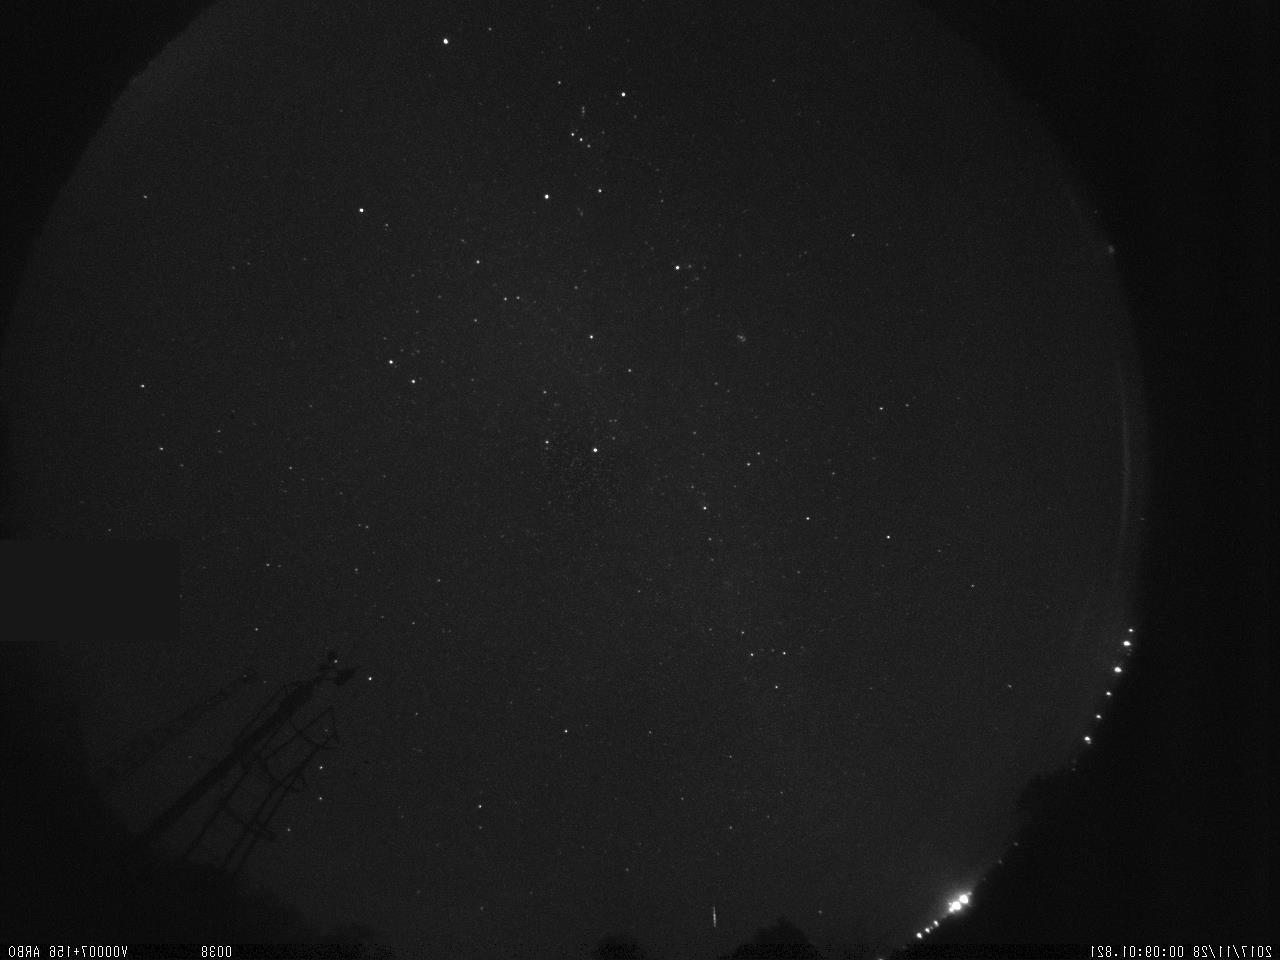meteor: (673, 889, 739, 945)
